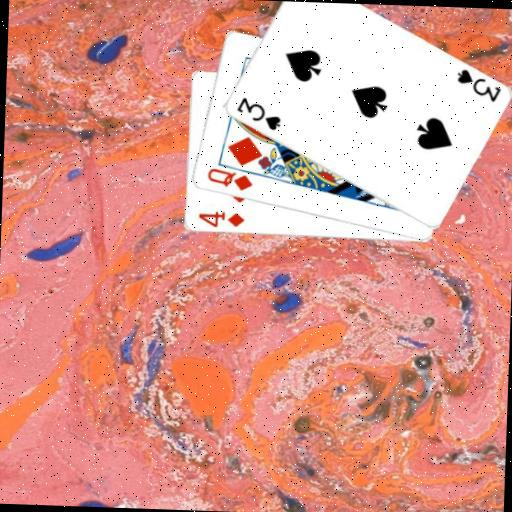3S: (232, 93, 282, 132), (452, 65, 502, 104)
4D: (194, 207, 245, 229)
QD: (203, 165, 254, 193)
